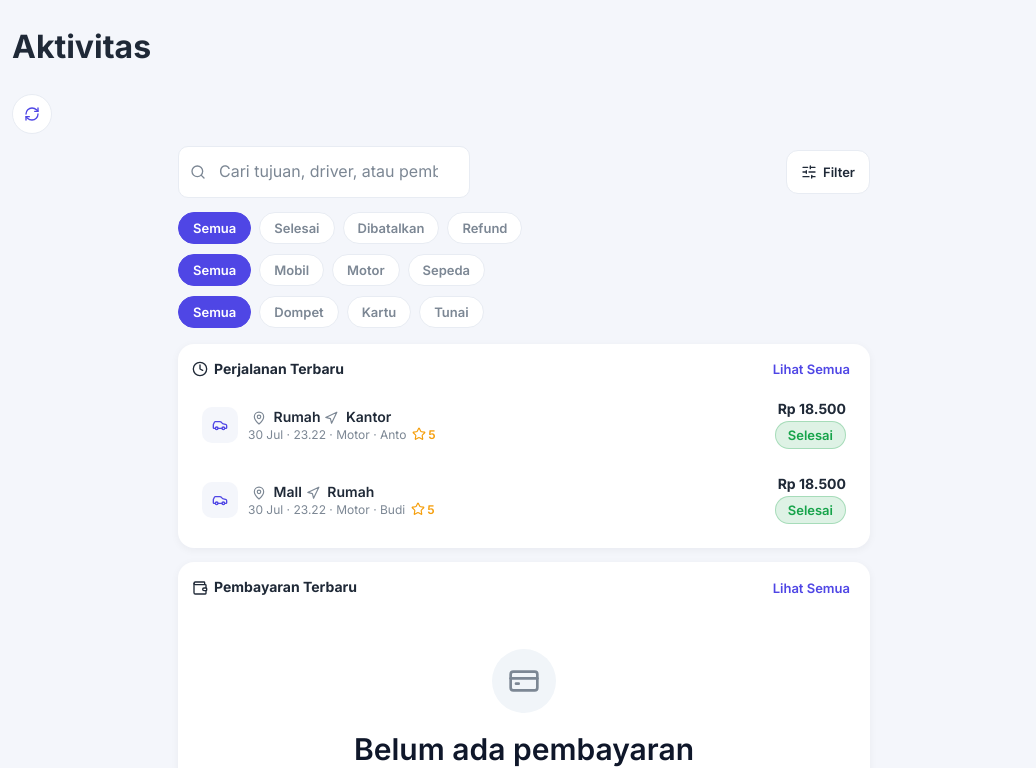
Test: ActivityHome — component › searches by driver name and pickup
This screenshot has width=1036, height=768.
Expected: the text "Kantor" is shown, [346,408,391,424]
Type "Budi" into the search field named "Search" at {"x": 324, "y": 172}, box [178,146,470,198]
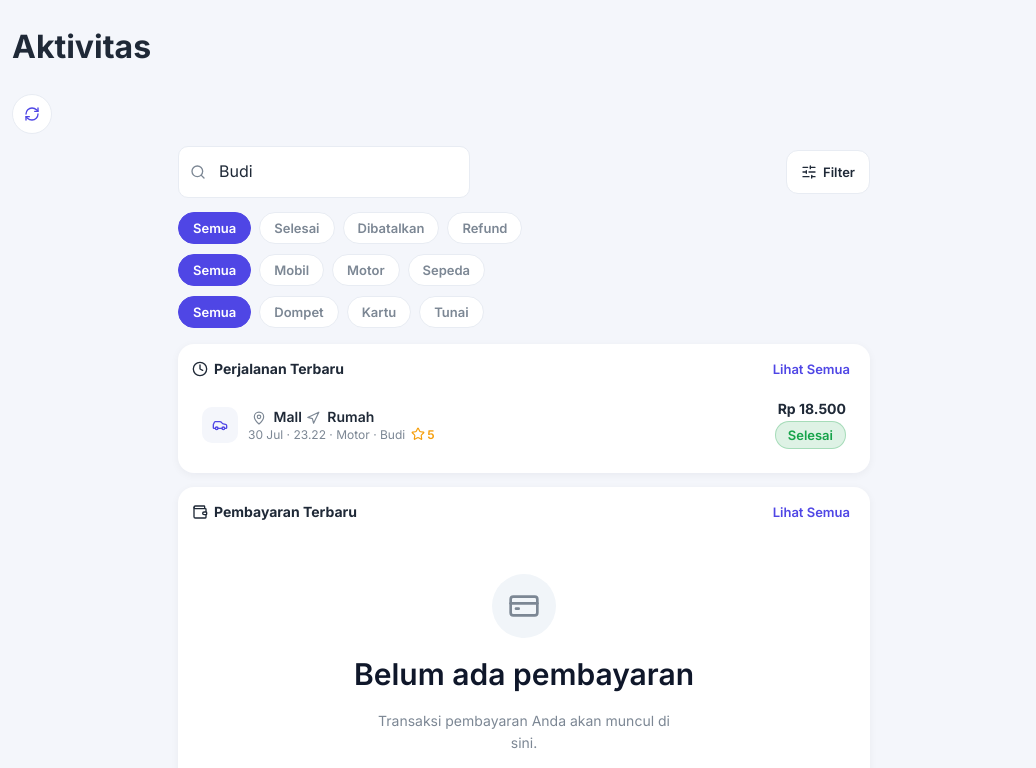
Expected: the text "Rumah" is shown, [327,408,374,424]
Expected: the button "Kantor" is gone
